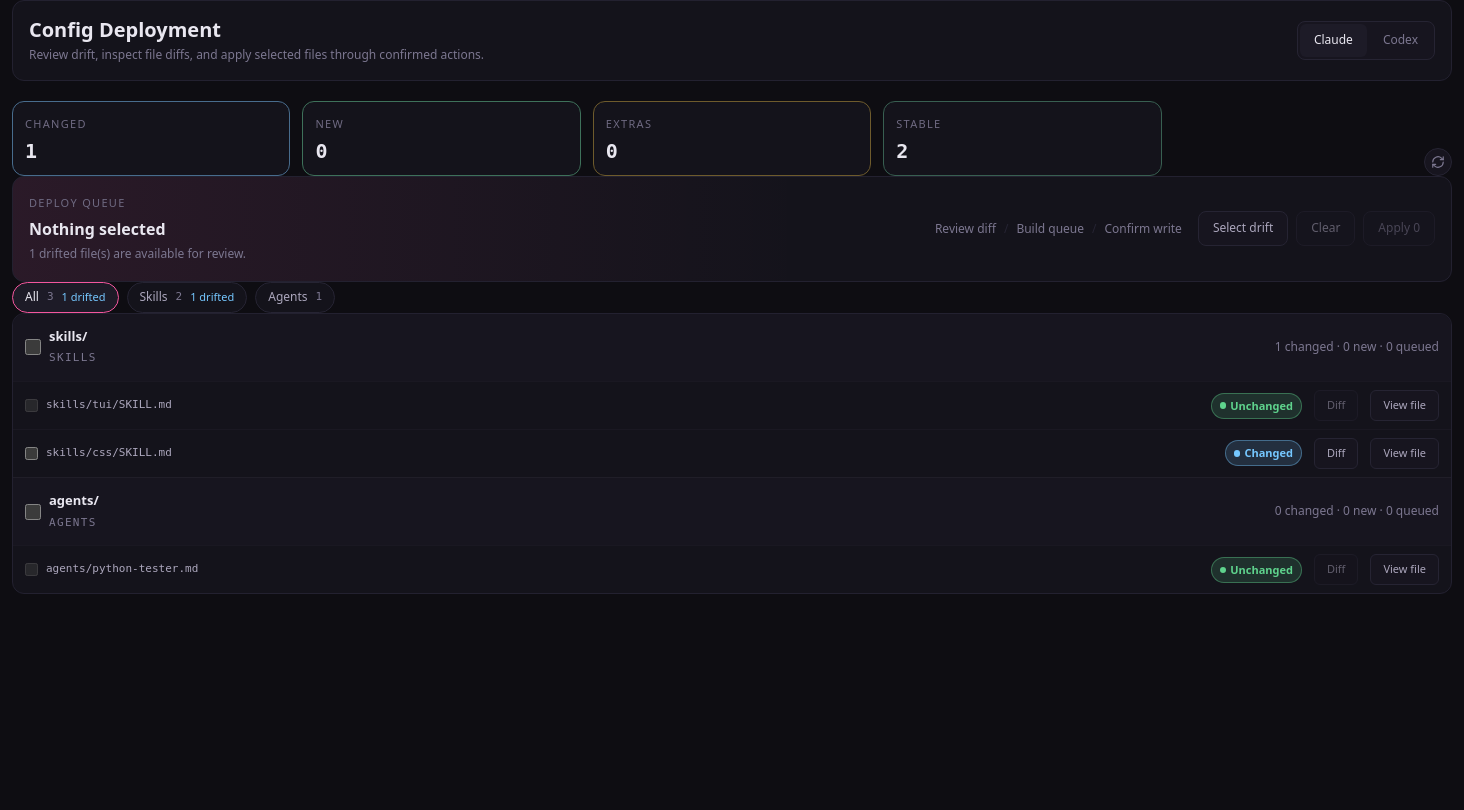
Test: Deploy config tree › queues every drifted file in a component from its header checkbox
Expected: the text "skills/" is shown, [49,327,87,345]
What coordinates should you click on to do the following:
click the checkbox labelled "skills/ Skills 1 changed · 0 new · 0 queued"
I would click on:
 (33, 347)
Its box is [25,339,41,355].
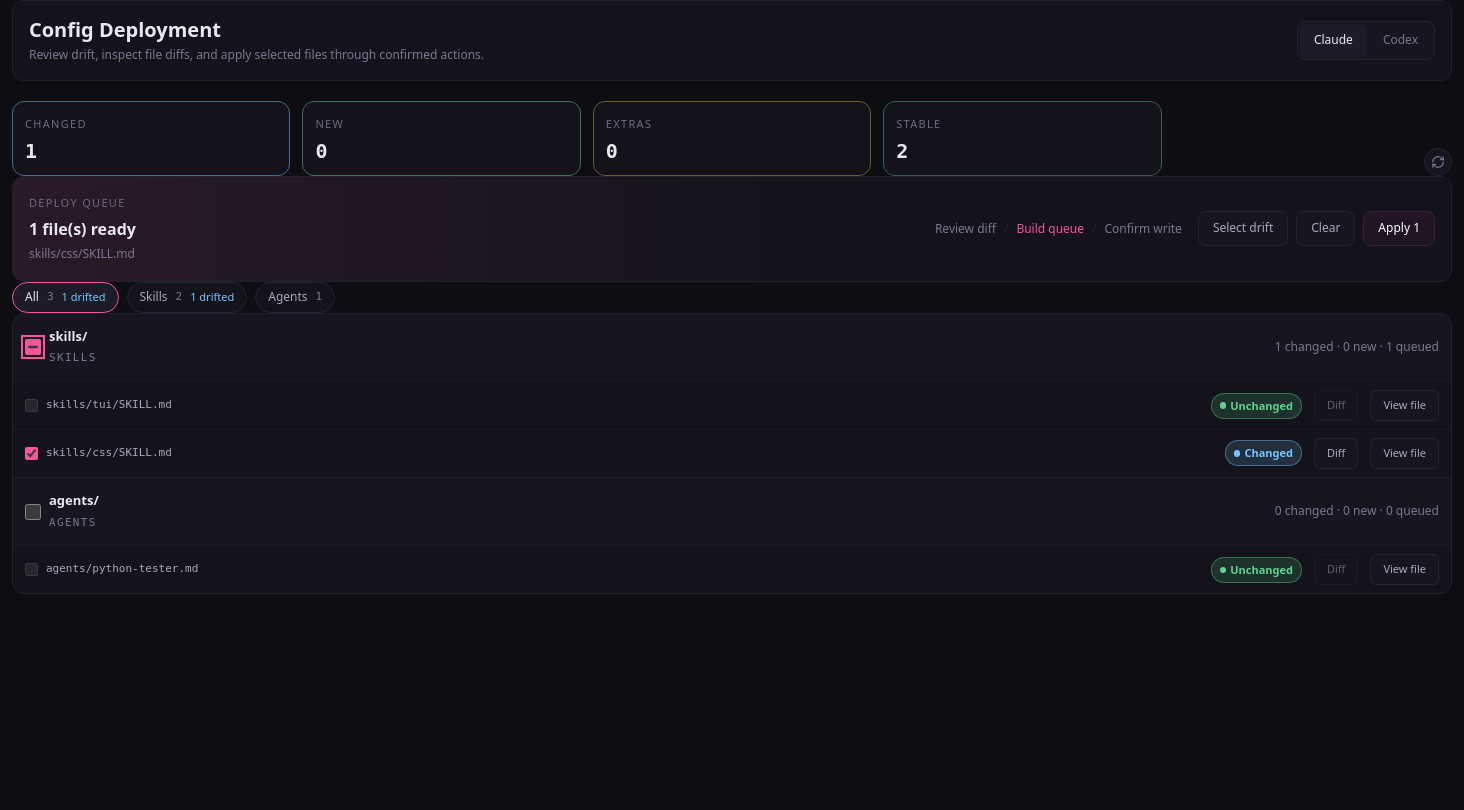
Expected: the text "1 file(s) ready" is shown, [29,218,136,240]
Expected: the button "Apply 1" is enabled, [1363,211,1435,246]
